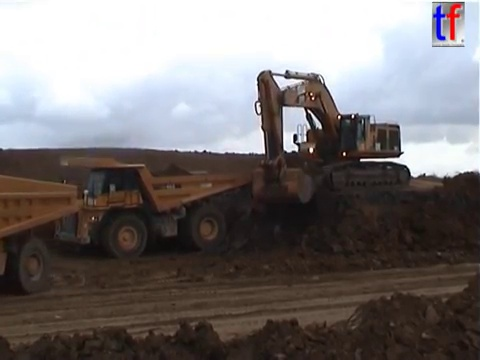excavator: (250, 68, 413, 207)
truck: (52, 154, 250, 260), (1, 172, 79, 296)
